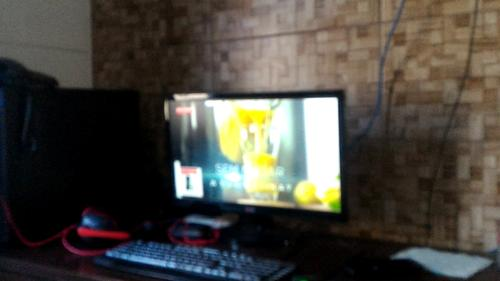Polishop #1: (178, 166, 204, 197)
